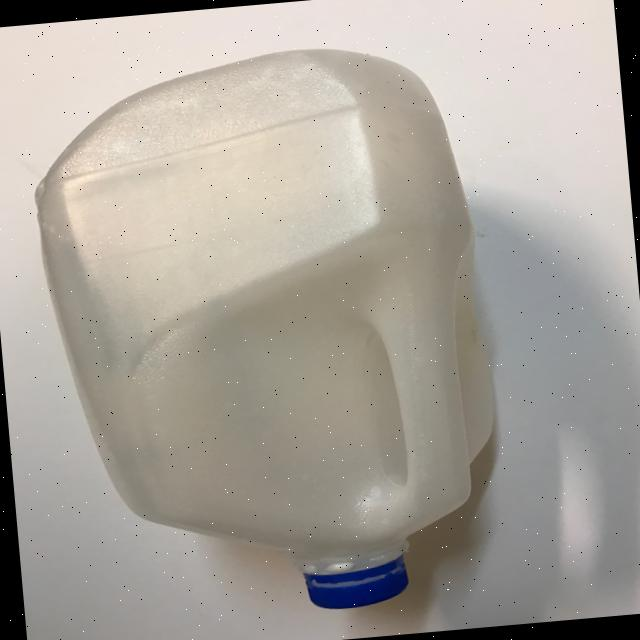plastic: (22, 34, 512, 632)
